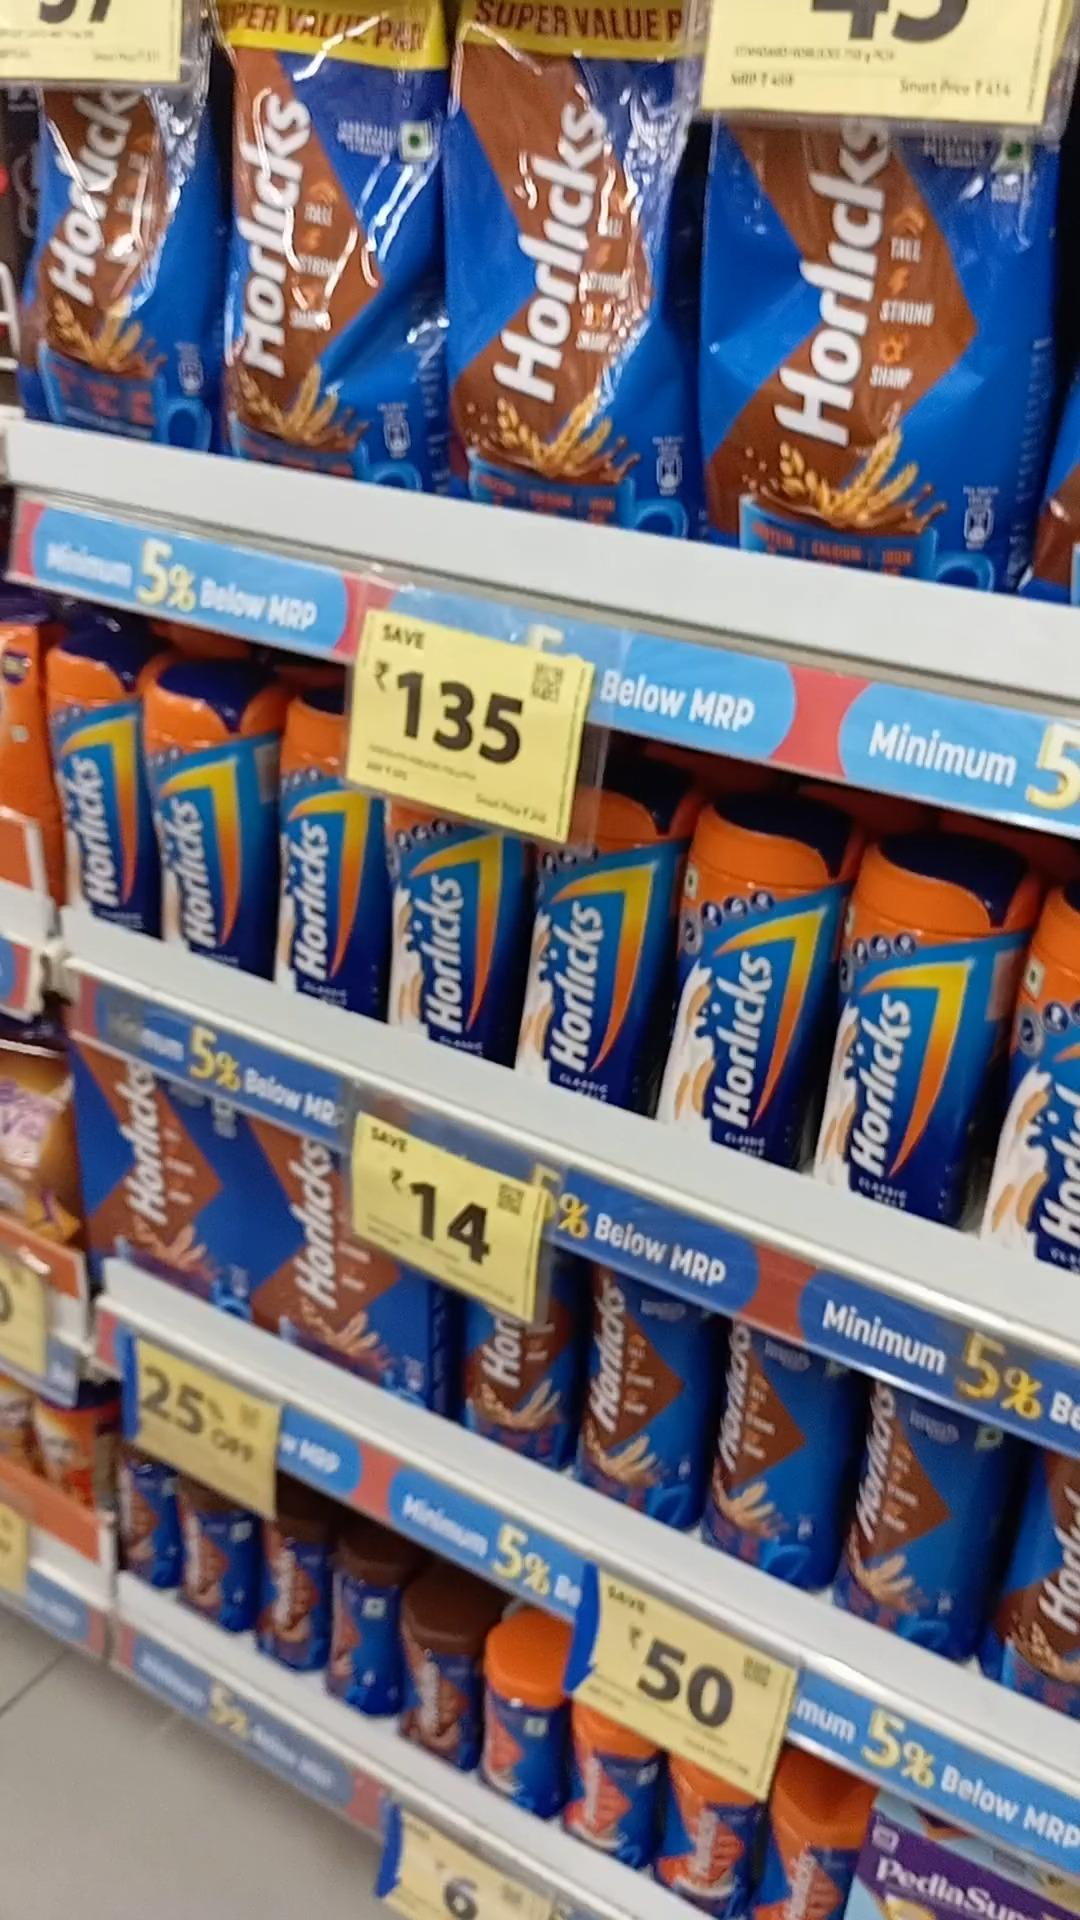HORLICK_CHOCOLATE_200_G_JAR: (400, 1594, 477, 1749), (178, 1486, 255, 1634), (328, 1548, 392, 1720), (260, 1518, 322, 1665)
HORLICK_CHOCOLATE_750_G_POUCH: (703, 119, 1030, 559), (456, 0, 680, 524), (227, 3, 442, 476)
HORLICK_CLASSIC_MALT_500_G_JAR: (840, 832, 985, 1220), (678, 791, 815, 1155), (146, 671, 266, 965), (524, 824, 636, 1110), (386, 799, 498, 1047), (284, 757, 373, 1004)
